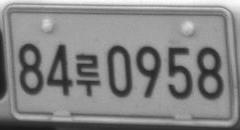0: (106, 44, 133, 99)
4: (46, 43, 74, 97)
5: (166, 46, 193, 100)
8: (196, 46, 224, 101), (18, 42, 44, 96)
9: (135, 45, 161, 98)
루: (75, 53, 100, 97)
